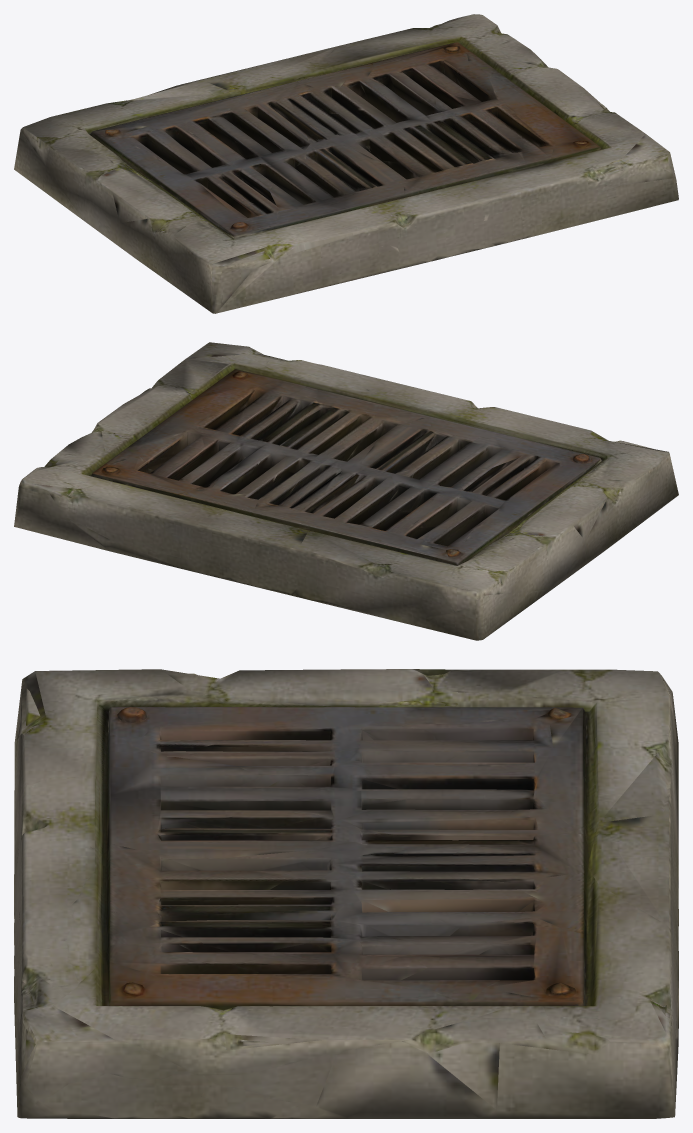
Rendered from Rejilla.glb.
3 renders of one model, top to bottom at view 1: azimuth 30°, elevation 25°; view 2: azimuth 150°, elevation 25°; view 3: azimuth 270°, elevation 25°, orthographic. The views are drawn at different scales.
Parts seen in each view (by area): view 1: node_0; view 2: node_0; view 3: node_0.
Part boxes in pixels (bbox=[...]): node_0: bbox=[14, 14, 678, 313]; node_0: bbox=[14, 342, 678, 640]; node_0: bbox=[14, 669, 678, 1118].
Bounding box in the file's own units: 0.9688 × 0.0973 × 0.7188.
1 material, 1 textured.
